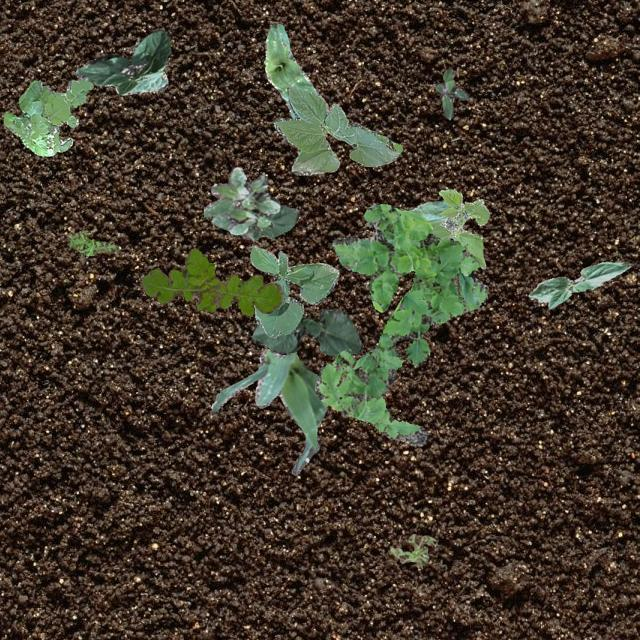crop: (210, 348, 328, 473), (273, 84, 402, 174), (248, 245, 338, 336), (262, 22, 330, 118), (408, 188, 488, 268), (74, 28, 170, 94), (250, 308, 362, 354), (528, 260, 630, 308), (210, 203, 298, 240)
weed: (314, 202, 486, 446), (140, 247, 282, 314), (3, 78, 92, 154), (202, 166, 278, 233), (434, 66, 468, 118), (389, 534, 436, 568), (66, 230, 118, 254)
